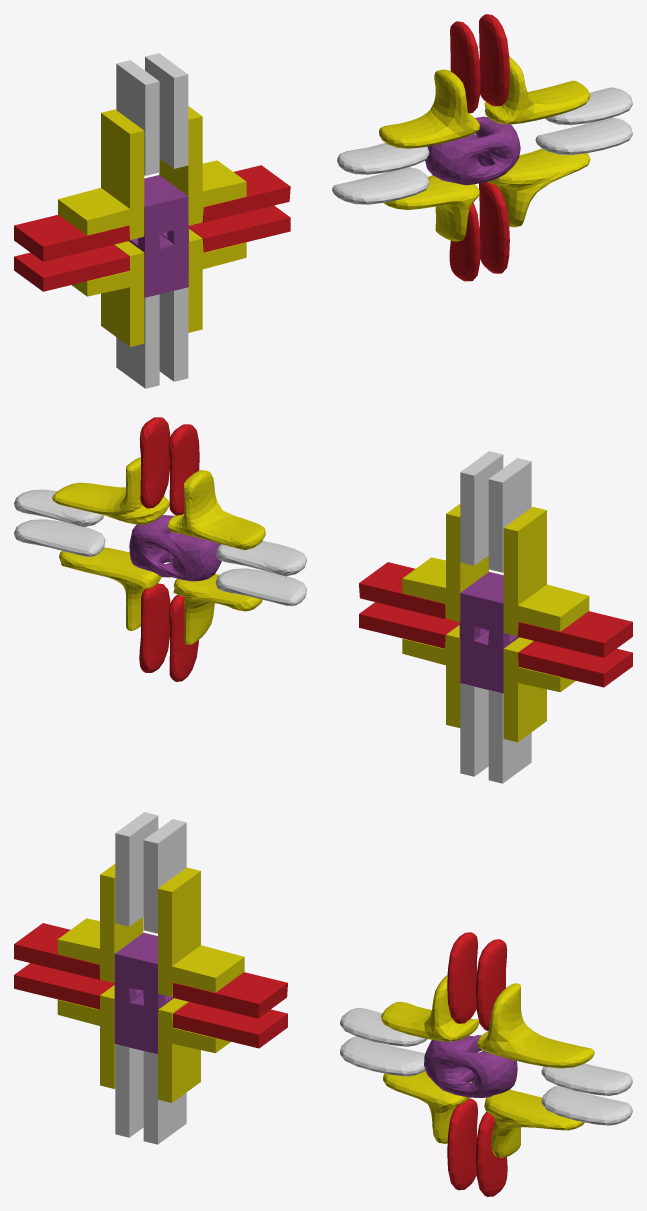
Rendered from qbt_v4_soft_v2.obj.
3 views of the same model, one above another, from view 1: azimuth 30°, elevation 25°; view 2: azimuth 150°, elevation 25°; view 3: azimuth 330°, elevation 25° (orthographic).
Parts seen in each view (by area): view 1: Object.3, Object.13, Object.26, Object.17, Object.1, Object.4, Object.9, Object.14, Object.5, Object.16, Object.11, Object.8 (+14 smaller); view 2: Object.3, Object.13, Object.26, Object.17, Object.1, Object.4, Object.16, Object.9, Object.5, Object.11, Object.8, Object.14 (+14 smaller); view 3: Object.1, Object.13, Object.16, Object.26, Object.3, Object.2, Object.11, Object.7, Object.14, Object.9, Object.6, Object.17 (+14 smaller).
Part boxes in pixels (x1=…): Object.3: x1=58, y1=109, x2=144, y2=239; Object.13: x1=129, y1=175, x2=188, y2=297; Object.26: x1=425, y1=116, x2=520, y2=185; Object.17: x1=379, y1=69, x2=479, y2=148; Object.1: x1=159, y1=106, x2=246, y2=225; Object.4: x1=72, y1=241, x2=144, y2=346; Object.9: x1=145, y1=53, x2=188, y2=168; Object.14: x1=487, y1=148, x2=590, y2=227; Object.5: x1=14, y1=244, x2=129, y2=291; Object.16: x1=484, y1=56, x2=590, y2=124; Object.11: x1=116, y1=60, x2=159, y2=175; Object.8: x1=14, y1=214, x2=129, y2=261; Object.3: x1=503, y1=507, x2=589, y2=636; Object.13: x1=459, y1=572, x2=518, y2=693; Object.26: x1=129, y1=515, x2=221, y2=581; Object.17: x1=167, y1=470, x2=265, y2=550; Object.1: x1=402, y1=503, x2=488, y2=621; Object.4: x1=503, y1=637, x2=575, y2=742; Object.16: x1=52, y1=457, x2=169, y2=524; Object.9: x1=460, y1=451, x2=503, y2=565; Object.5: x1=518, y1=641, x2=632, y2=687; Object.11: x1=488, y1=458, x2=531, y2=572; Object.8: x1=518, y1=611, x2=632, y2=657; Object.14: x1=59, y1=547, x2=161, y2=630; Object.1: x1=158, y1=867, x2=244, y2=996; Object.13: x1=114, y1=932, x2=173, y2=1054; Object.16: x1=477, y1=983, x2=594, y2=1068; Object.26: x1=424, y1=1035, x2=517, y2=1097; Object.3: x1=57, y1=864, x2=143, y2=982; Object.2: x1=158, y1=998, x2=230, y2=1102; Object.11: x1=115, y1=812, x2=158, y2=926; Object.7: x1=173, y1=1002, x2=287, y2=1048; Object.14: x1=484, y1=1089, x2=584, y2=1157; Object.9: x1=143, y1=819, x2=186, y2=933; Object.6: x1=173, y1=972, x2=287, y2=1018; Object.17: x1=381, y1=975, x2=479, y2=1041.
Size of the model in its own units: 150 by 72.14 by 12.58.
